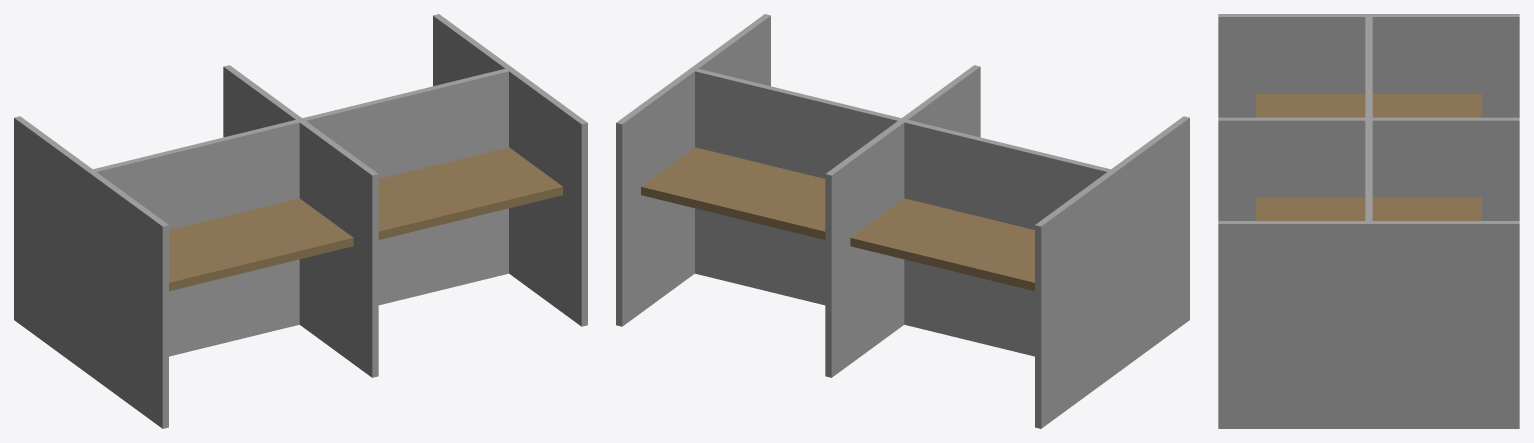
File: SM_Props_Interior_Generic_Office_Table_Staff.fbx
3 views of the same model, side by side, from view 1: azimuth 30°, elevation 25°; view 2: azimuth 150°, elevation 25°; view 3: azimuth 270°, elevation 25° (orthographic).
Visible parts, largest first — view 1: SM_Props_Interior_Generic_Office_Table_Staff; view 2: SM_Props_Interior_Generic_Office_Table_Staff; view 3: SM_Props_Interior_Generic_Office_Table_Staff.
Boxes of the visible parts, <box> form: SM_Props_Interior_Generic_Office_Table_Staff: <box>14,14,587,428</box>; SM_Props_Interior_Generic_Office_Table_Staff: <box>616,14,1189,428</box>; SM_Props_Interior_Generic_Office_Table_Staff: <box>1218,14,1519,428</box>.
Bounding box in the file's own units: 264 × 120 × 160.
